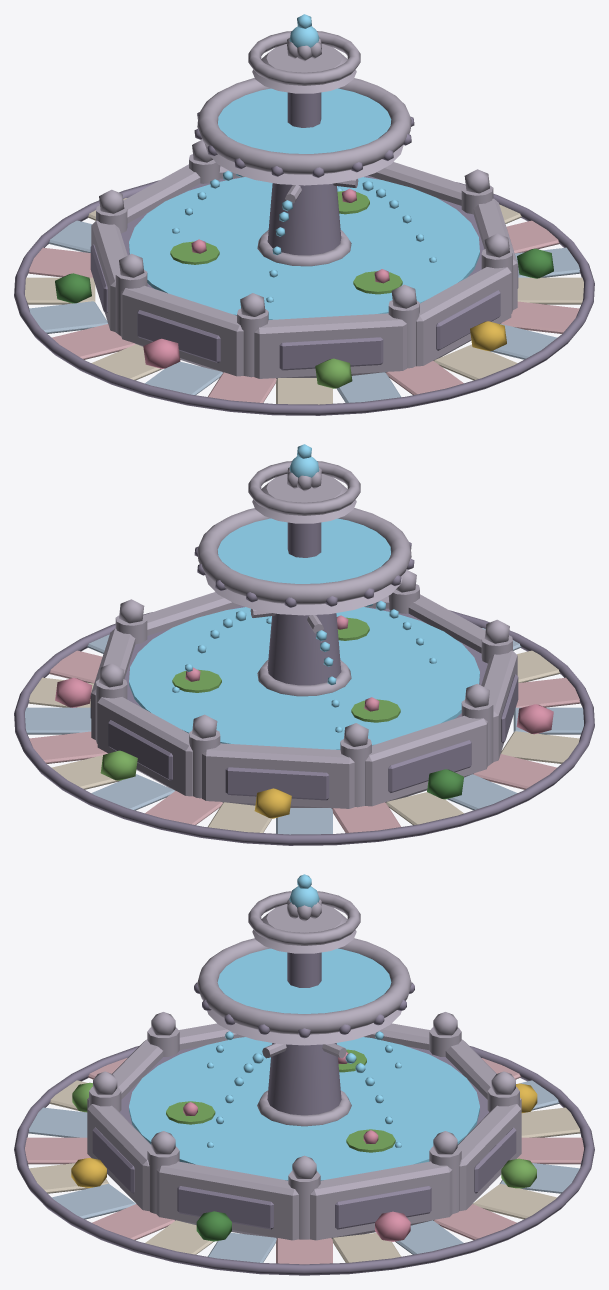
Rendered from ac_fountain.glb.
3 renders of one model, top to bottom at view 1: azimuth 30°, elevation 25°; view 2: azimuth 150°, elevation 25°; view 3: azimuth 270°, elevation 25°, orthographic.
Visible parts, largest first — view 1: body; view 2: body; view 3: body.
Boxes of the visible parts, x1,y1,x2,y2 form: body: (14, 14, 594, 415); body: (14, 444, 594, 845); body: (14, 874, 594, 1275).
Bounding box in the file's own units: 6.12 × 3.25 × 6.12.
